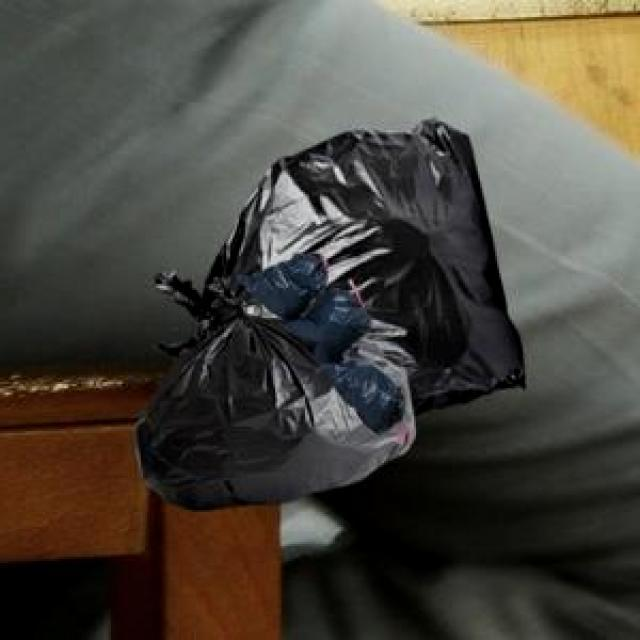Trashbag: (317, 351, 417, 426), (273, 286, 370, 353), (234, 241, 326, 306)
